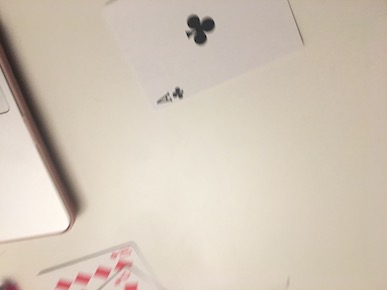AceOfClubs: (101, 1, 312, 115)
TenOfDiamonds: (40, 235, 153, 286)
